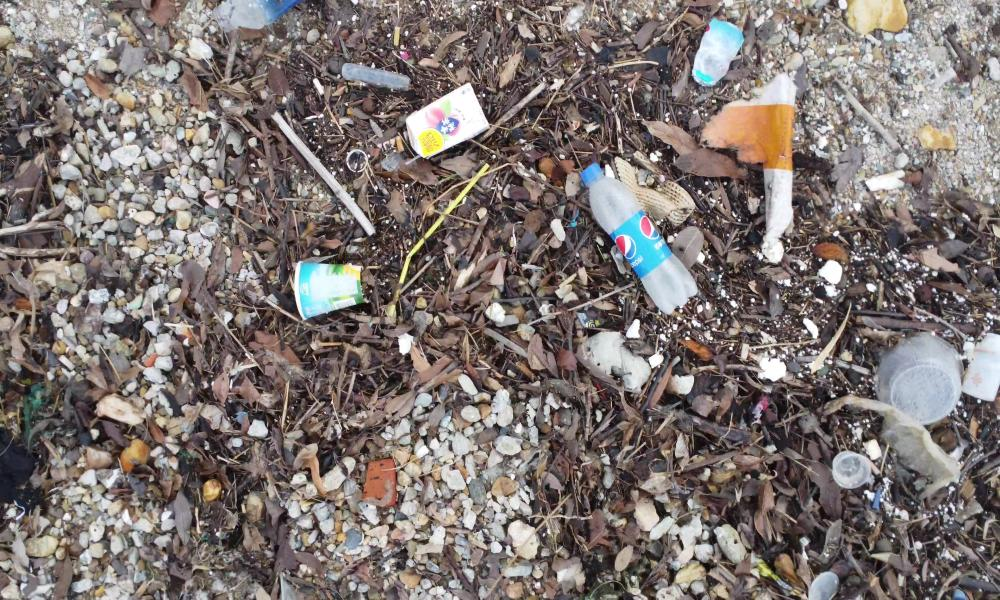carton: (410, 84, 487, 152), (294, 250, 369, 319)
plastic bottle: (579, 161, 698, 315)
plastic container: (878, 330, 966, 425)
